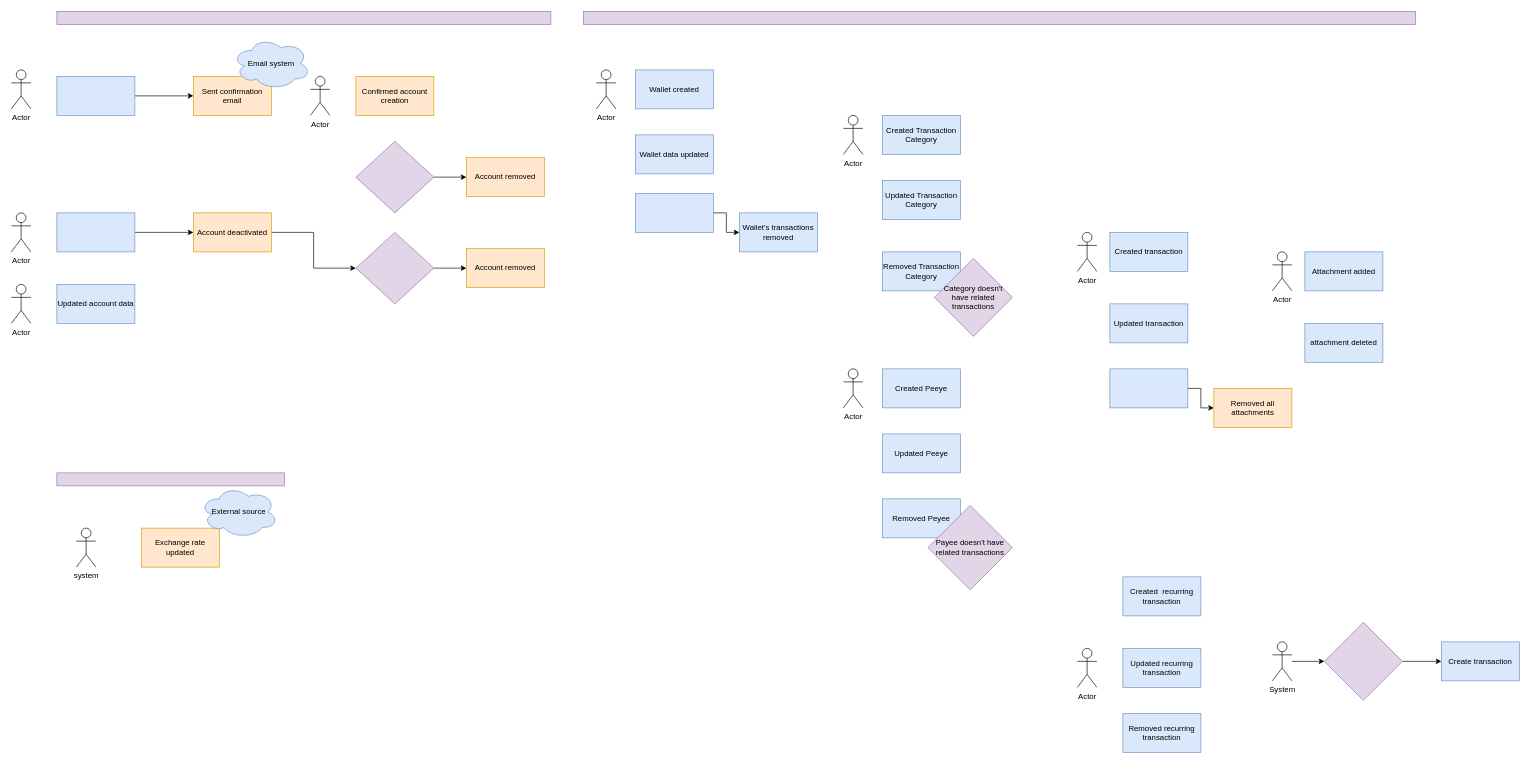
Some shapes in this 1531 by 764 pixel diagram are drawn without their labels. Here are the shapes that lost their labels. From the top down, the box of each, then its label:
(56, 11, 551, 24): Account
(583, 11, 1415, 24): Wallet / transactions
(56, 76, 135, 115): Create (register) new account
(355, 141, 434, 213): Account not confirmed within X days
(56, 212, 135, 252): Remove account
(635, 193, 713, 232): Wallet removed
(355, 232, 434, 304): After 30 days
(1109, 368, 1188, 408): Removed transaction
(56, 472, 284, 486): Currencies
(1324, 622, 1402, 700): On schedule
